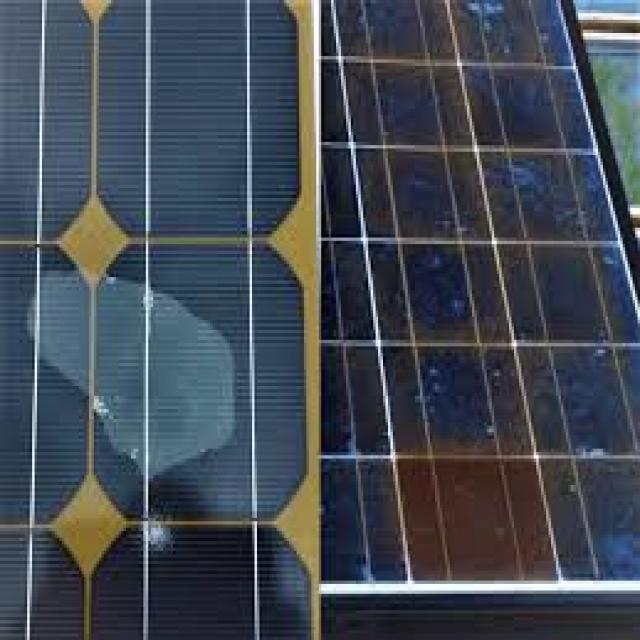faulty: (316, 0, 640, 591), (28, 215, 259, 526)
